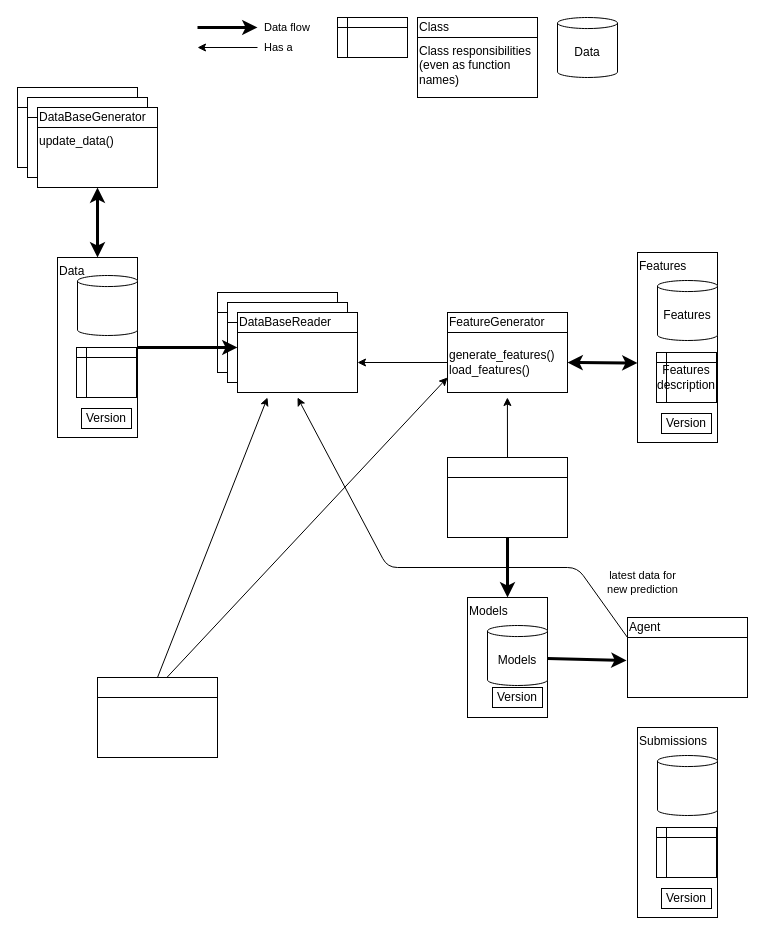
The diagram is 765 pixels wide and 935 high, and some of its shapes have lost their labels. Each missing label, with the centre of its shape:
Column description: point (106, 372)
Dashboard: point (157, 687)
Database Raw: point (107, 305)
feature selection hyperparam tuning training testing: point (507, 507)
load_db() get_dataframe(t1, t2): point (297, 362)
ModelTrainer: point (507, 467)
predict() submit(): point (687, 667)
Submis sions: point (687, 785)
Submis sions info: point (686, 852)
Table: point (372, 37)
